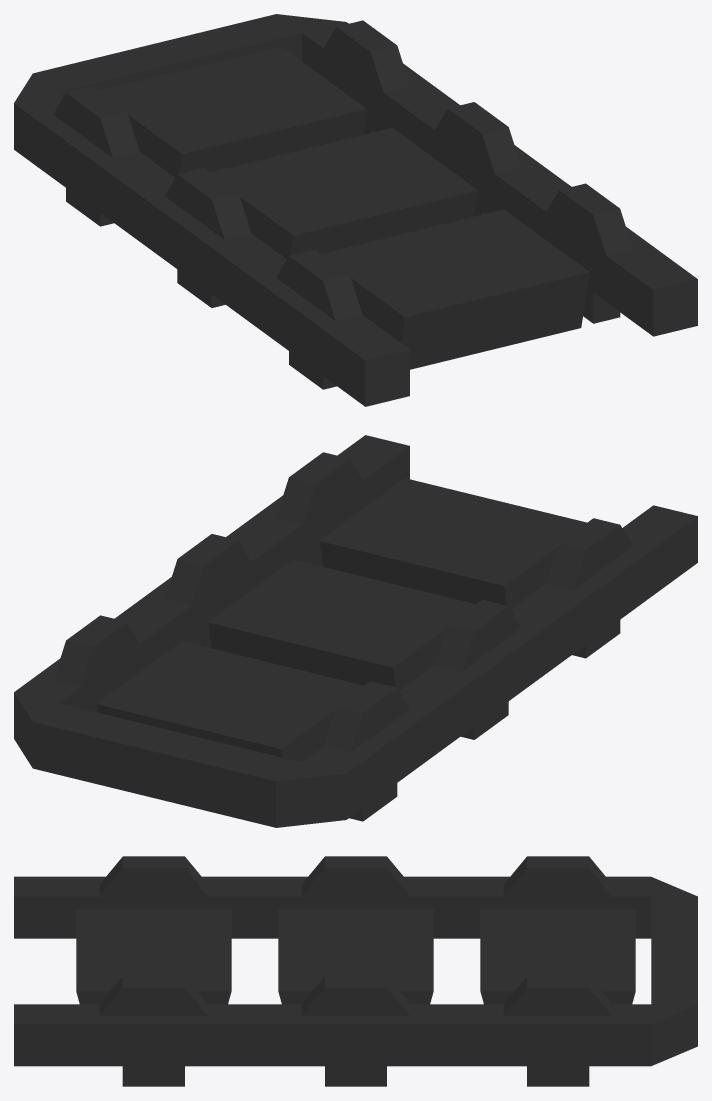
Rendered from train-freight-big-base-wheel-frame_B.glb.
3 renders of one model, top to bottom at view 1: azimuth 30°, elevation 25°; view 2: azimuth 150°, elevation 25°; view 3: azimuth 270°, elevation 25°, orthographic. The views are drawn at different scales.
Visible parts, largest first — view 1: train-freight-big-base-wheel-frame_B; view 2: train-freight-big-base-wheel-frame_B; view 3: train-freight-big-base-wheel-frame_B.
Boxes of the visible parts, x1,y1,x2,y2 form: train-freight-big-base-wheel-frame_B: (14, 14, 697, 406); train-freight-big-base-wheel-frame_B: (14, 435, 697, 827); train-freight-big-base-wheel-frame_B: (14, 856, 697, 1086).
Bounding box in the file's own units: 2.24 × 0.7 × 4.4.
Materials: 1 (1 with a texture image).
